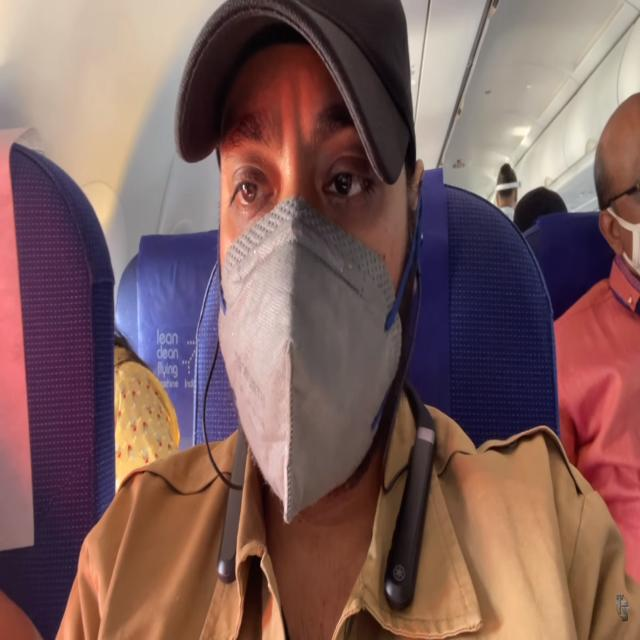Neckband: (200, 220, 439, 615)
